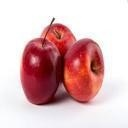apple: (20, 38, 61, 106)
